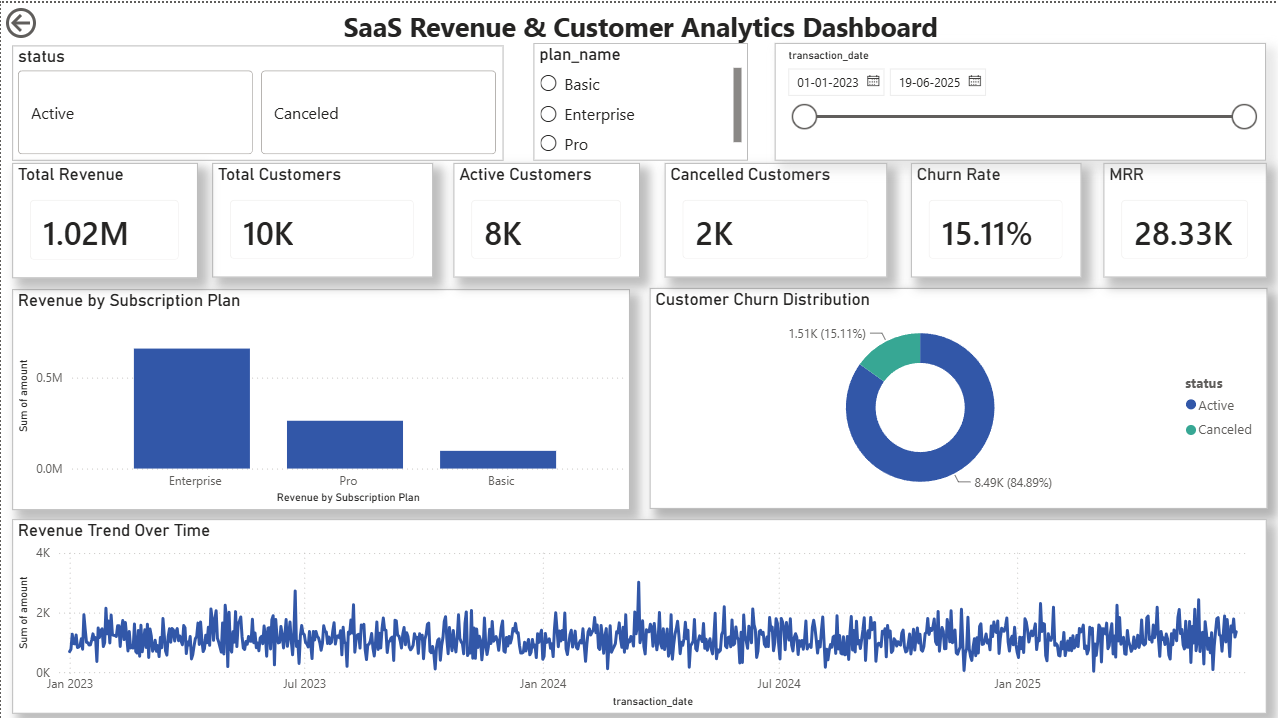

Layout of this report page (visuals, bound fields, positions):
{"tool":"powerbi","page":{"name":"Page 1","canvas":[1280,720],"ordinal":0},"visuals":[{"type":"clusteredColumnChart","title":"Revenue by Subscription Plan","fields":{"Category":["public transactions.plan_name"],"Y":["Sum(public transactions.amount)"]},"box":[11.5,285.9,617.9,220.5],"z":1000},{"type":"donutChart","title":"Customer Churn Distribution","fields":{"Category":["public transactions.status"],"Y":["CountNonNull(public transactions.customer_id)"]},"box":[648.5,285.3,617.6,220.6],"z":2000},{"type":"lineChart","title":"Revenue Trend Over Time","fields":{"Y":["Sum(public transactions.amount)"],"Category":["public transactions.transaction_date"]},"box":[11.8,516.2,1254.4,194.1],"z":3000},{"type":"cardVisual","title":"Total Customers","fields":{"Data":["CountNonNull(public transactions.customer_id)"]},"box":[211.8,160.3,220.6,114.7],"z":4000},{"type":"cardVisual","title":"Active Customers","fields":{"Data":["public transactions.Active Customers"]},"box":[452.9,160.3,186.8,114.7],"z":5000},{"type":"cardVisual","title":"Cancelled Customers","fields":{"Data":["public transactions.Cancelled Customers"]},"box":[663.2,160.3,222.1,114.7],"z":6000},{"type":"cardVisual","title":"Churn Rate","fields":{"Data":["public transactions.Churn Rate %"]},"box":[910.3,160.3,170.6,114.7],"z":7000},{"type":"cardVisual","title":"MRR","fields":{"Data":["public transactions.MRR"]},"box":[1102.9,160.3,163.2,114.7],"z":8000},{"type":"textbox","box":[197.1,0,884.3,65.7],"z":9000},{"type":"listSlicer","fields":{"Values":["public transactions.plan_name"]},"box":[532.4,39.7,214.7,117.6],"z":10000},{"type":"advancedSlicerVisual","fields":{"Values":["public transactions.status"]},"box":[11.5,42.3,491,115.4],"z":11000},{"type":"actionButton","box":[0,0,100,40],"z":12000},{"type":"slicer","fields":{"Values":["public transactions.transaction_date"]},"box":[774.4,39.7,491,117.9],"z":13000},{"type":"cardVisual","title":"Total Revenue","fields":{"Data":["Sum(public transactions.amount)"]},"box":[11.5,160.3,185.9,115.4],"z":13001}]}

Visuals, with their boxes in screenshot pixels (x1, y1, x2, y2), scaled from the page's 1280x720 canvas onto the 1278x718 screenshot:
"Revenue by Subscription Plan" clusteredColumnChart: BBox(11, 285, 628, 505)
"Customer Churn Distribution" donutChart: BBox(647, 285, 1264, 504)
"Revenue Trend Over Time" lineChart: BBox(12, 515, 1264, 708)
"Total Customers" cardVisual: BBox(211, 160, 432, 274)
"Active Customers" cardVisual: BBox(452, 160, 639, 274)
"Cancelled Customers" cardVisual: BBox(662, 160, 884, 274)
"Churn Rate" cardVisual: BBox(909, 160, 1079, 274)
"MRR" cardVisual: BBox(1101, 160, 1264, 274)
textbox: BBox(197, 0, 1080, 66)
listSlicer - public transactions.plan_name: BBox(532, 40, 746, 157)
advancedSlicerVisual - public transactions.status: BBox(11, 42, 502, 157)
actionButton: BBox(0, 0, 100, 40)
slicer - public transactions.transaction_date: BBox(773, 40, 1263, 157)
"Total Revenue" cardVisual: BBox(11, 160, 197, 275)
